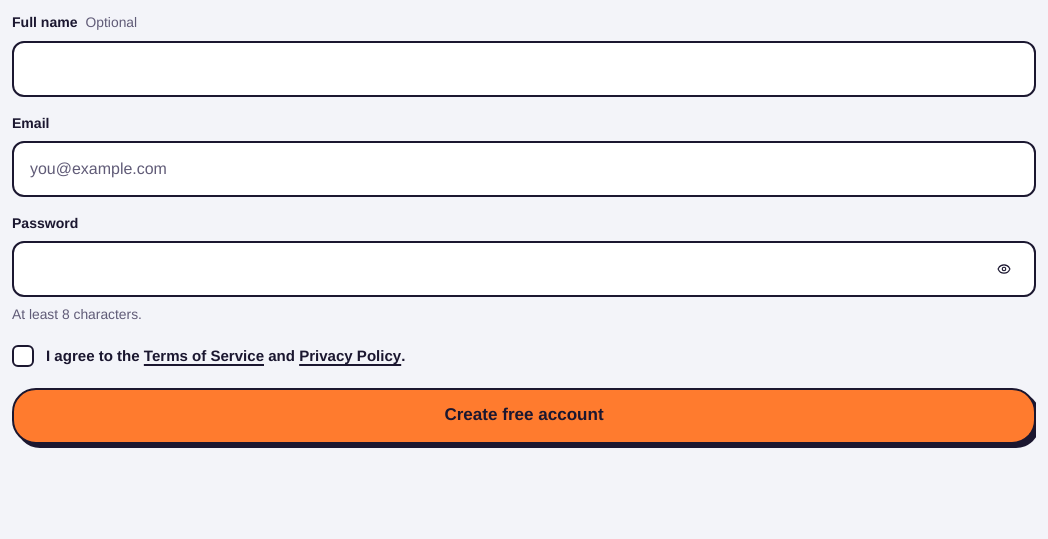
Scenario: RegisterForm — auth_signup_source telemetry (D-040) › says a refusal of a field the form does not show, instead of nothing
Type "new.user@example.com" into the field labelled "Email".
click(524, 169); type("new.user@example.com")  # box [30,143,1018,195]
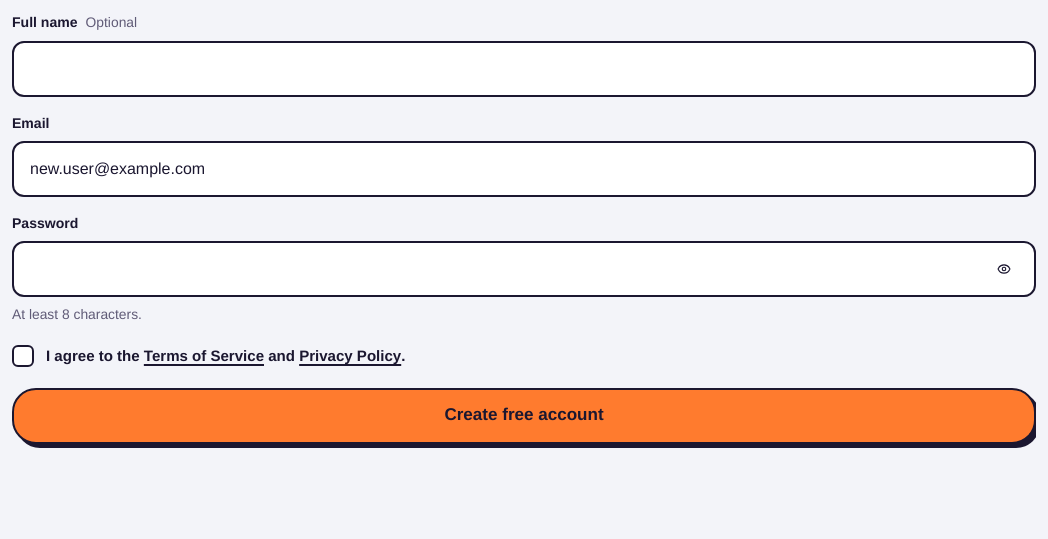
Type "sufficiently-long-pass" into the password field labelled "Password".
click(504, 269); type("sufficiently-long-pass")  # box [30,243,978,295]
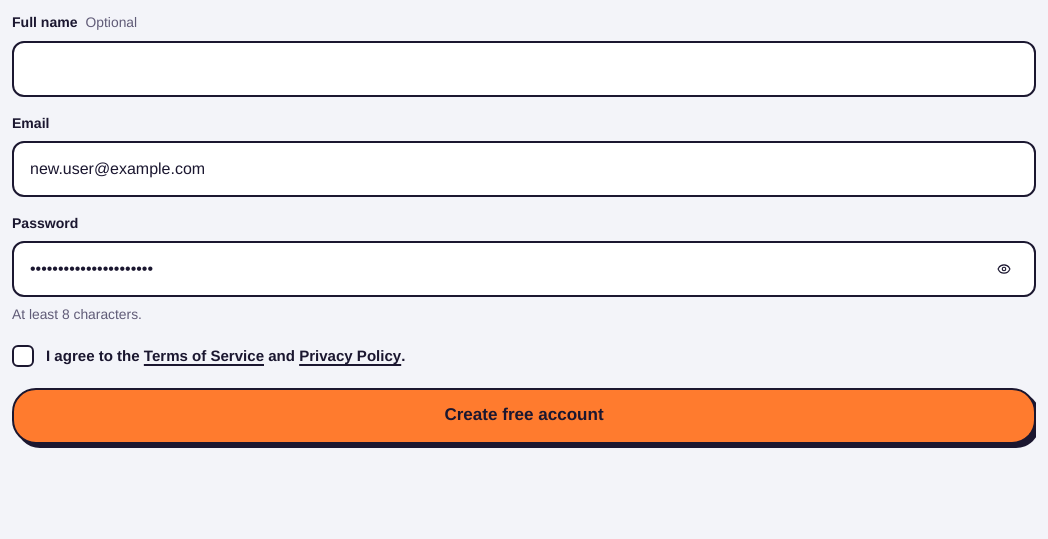
Click the checkbox.
click(23, 356)  # box [12,345,34,367]
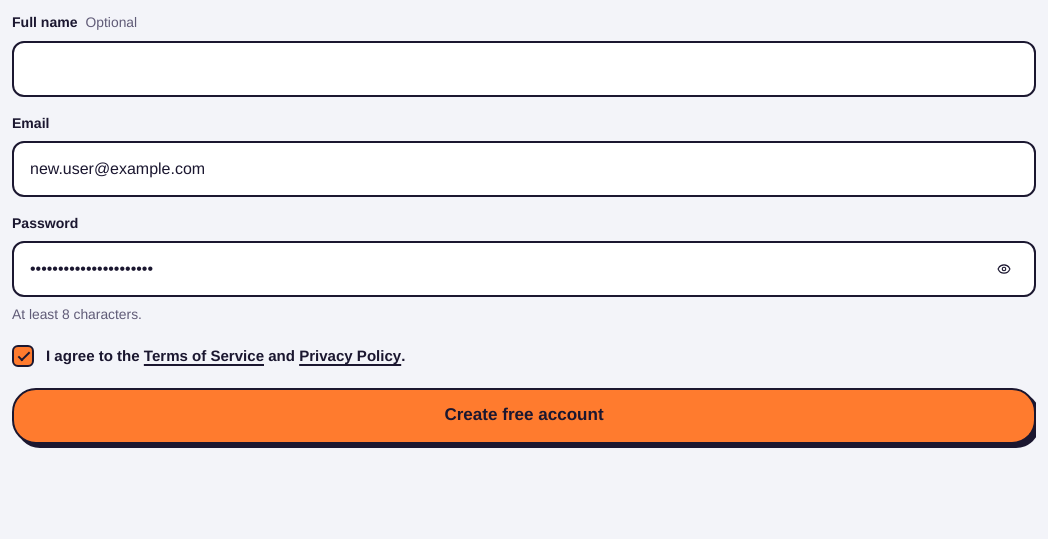
Click the button "Create free account".
click(524, 416)  # box [12,388,1036,444]
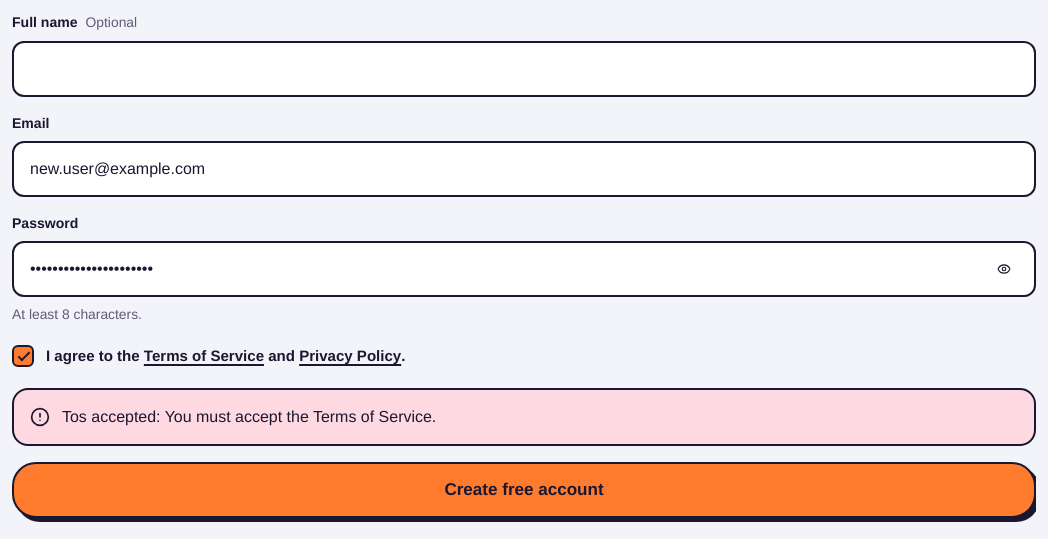
Expected: the message reads "Tos accepted: You must accept the Terms of Service.", [62,406,436,426]
